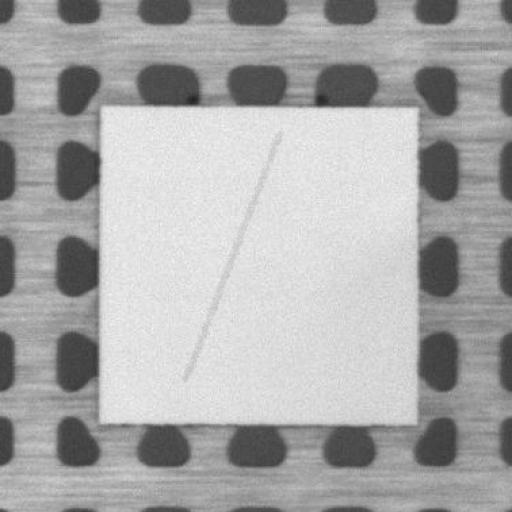DIE_CRACK: (184, 132, 278, 380)
